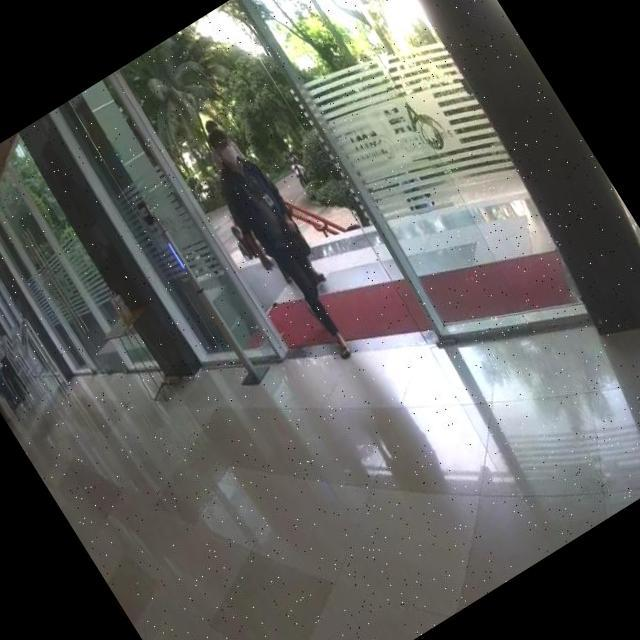person: (190, 122, 372, 370)
